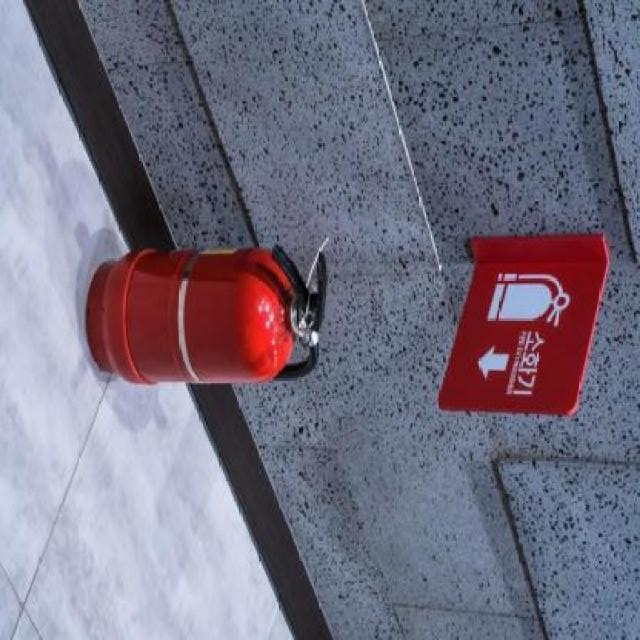fire extinguisher: (86, 244, 329, 384)
